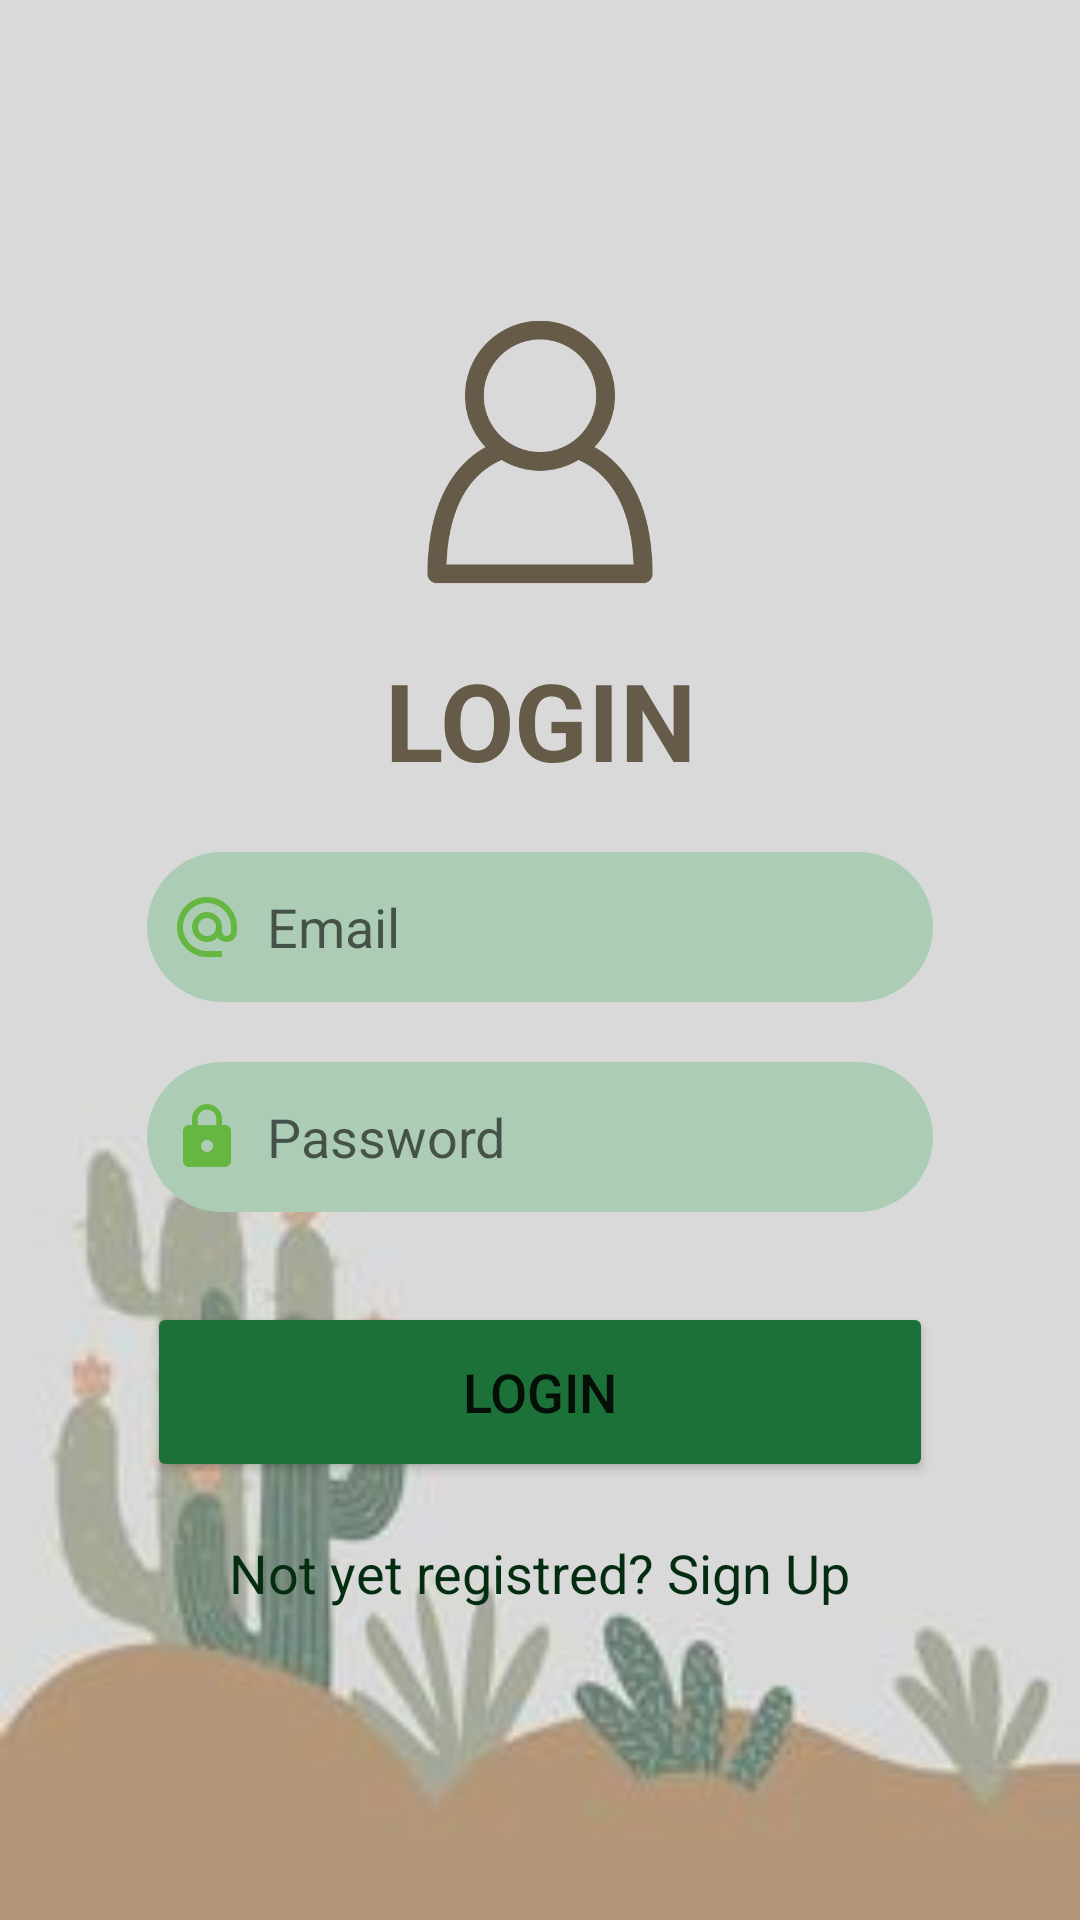

Named icons in this screenshot (1080 x 1920) and their centers, (x=x, y=y):
user: (x=540, y=452)
